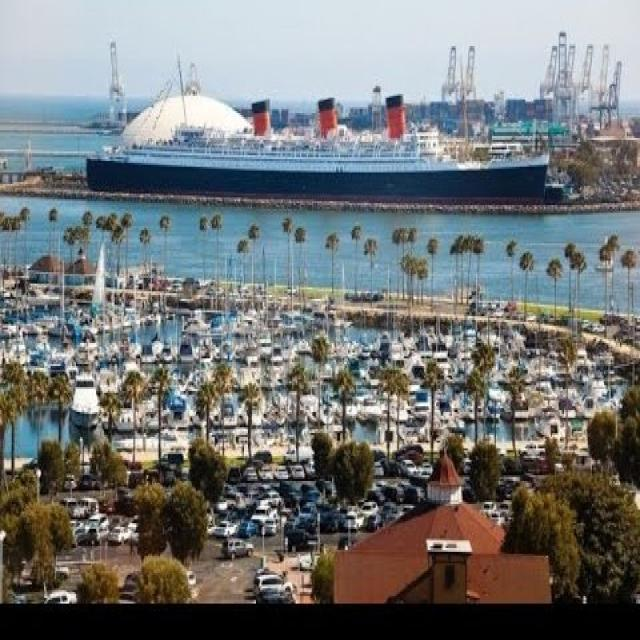cargoship: (77, 111, 566, 206)
